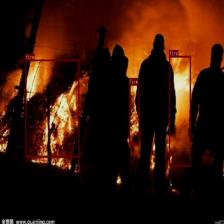fire: (25, 59, 79, 157), (169, 56, 191, 166), (129, 83, 139, 144)
